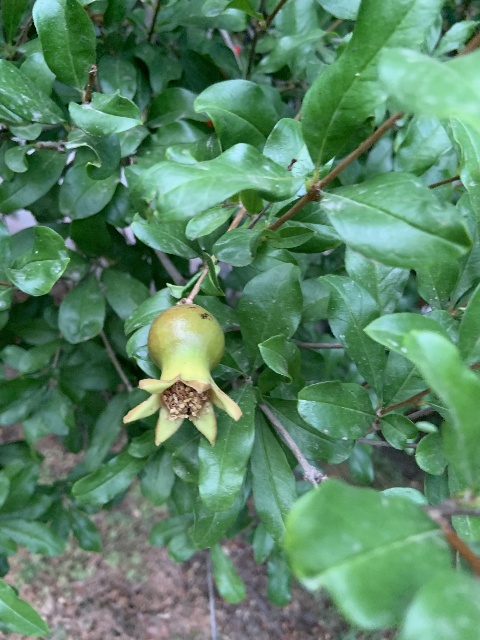early-fruit: (123, 303, 243, 447)
